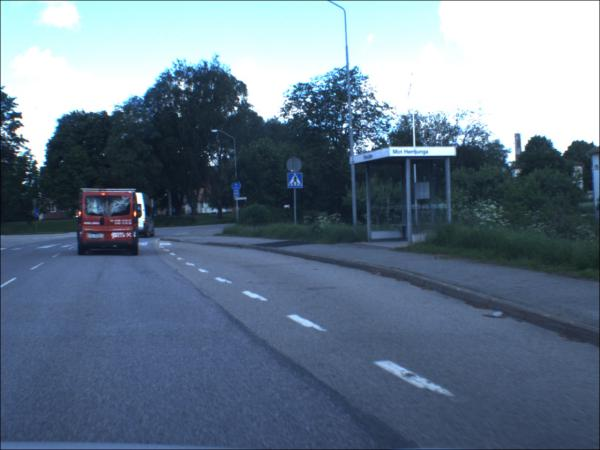PASS_RIGHT_SIDE: (35, 210, 42, 219)
PEDESTRIAN_CROSSING: (289, 175, 305, 190)
